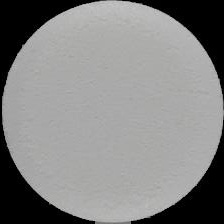69189-0161: (0, 0, 224, 224)
